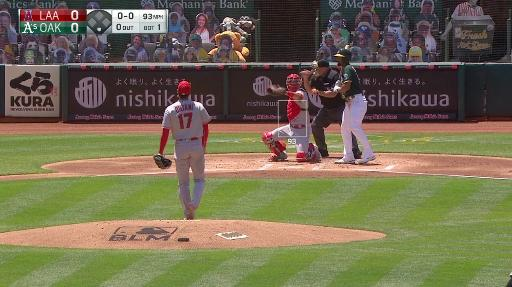pitcher: (155, 81, 211, 220)
